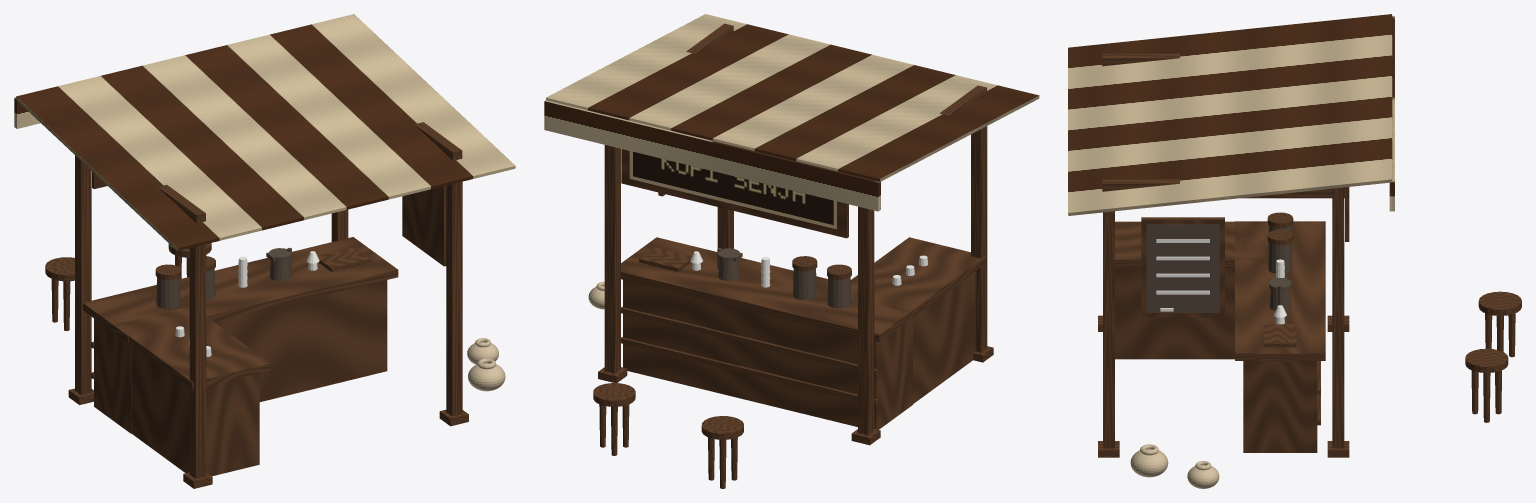
The model's file is kopi-senja-blender-v1.glb.
The picture shows the model from 3 angles, left to right: view 1: azimuth 30°, elevation 25°; view 2: azimuth 150°, elevation 25°; view 3: azimuth 270°, elevation 25°; orthographic projection.
Visible parts, largest first — view 1: kopi_canvas, kopi_wood, kopi_dark, kopi_tan, kopi_white; view 2: kopi_wood, kopi_canvas, kopi_sign, kopi_dark, kopi_white; view 3: kopi_canvas, kopi_wood, kopi_dark, kopi_tan, kopi_white.
Boxes of the visible parts, <box> form: kopi_canvas: <box>14,14,515,250</box>; kopi_wood: <box>45,122,468,488</box>; kopi_dark: <box>156,247,291,308</box>; kopi_tan: <box>467,338,505,391</box>; kopi_white: <box>175,251,319,356</box>; kopi_wood: <box>593,23,993,488</box>; kopi_canvas: <box>544,14,1039,211</box>; kopi_sign: <box>629,151,836,229</box>; kopi_dark: <box>717,248,851,308</box>; kopi_white: <box>690,251,928,287</box>; kopi_canvas: <box>1068,14,1394,215</box>; kopi_wood: <box>1098,53,1521,457</box>; kopi_dark: <box>1146,224,1292,312</box>; kopi_tan: <box>1130,444,1219,488</box>; kopi_white: <box>1156,239,1286,324</box>.
Bounding box in the file's own units: 3.32 × 2.4 × 3.36.
7 materials, 3 textured.
